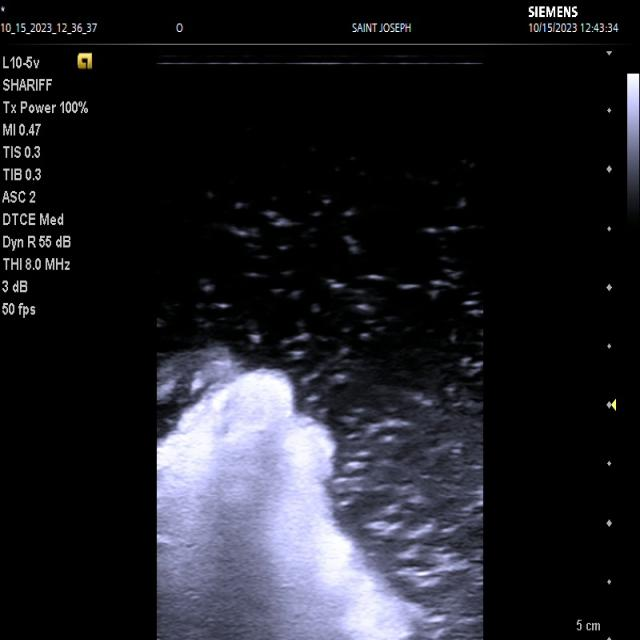tissue: (156, 365, 415, 639)
